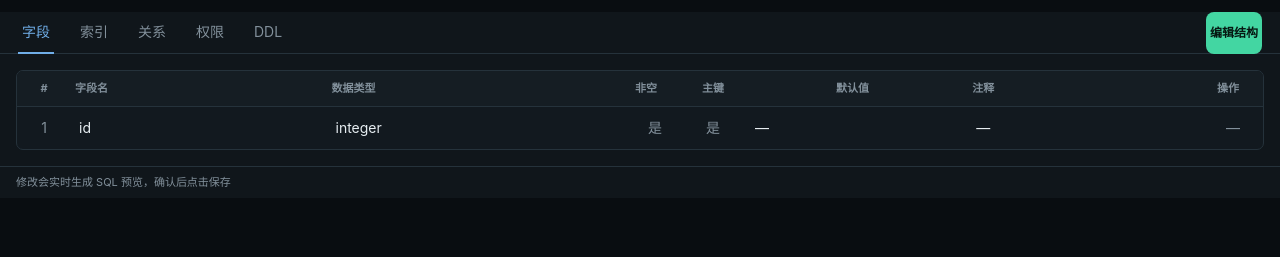
Test: starts read-only and enters edit mode explicitly
Expected: the text "id" is shown, x1=79 y1=119 x2=91 y2=136
Click the button "编辑结构" at (1234, 32), box x1=1206 y1=12 x2=1262 y2=54
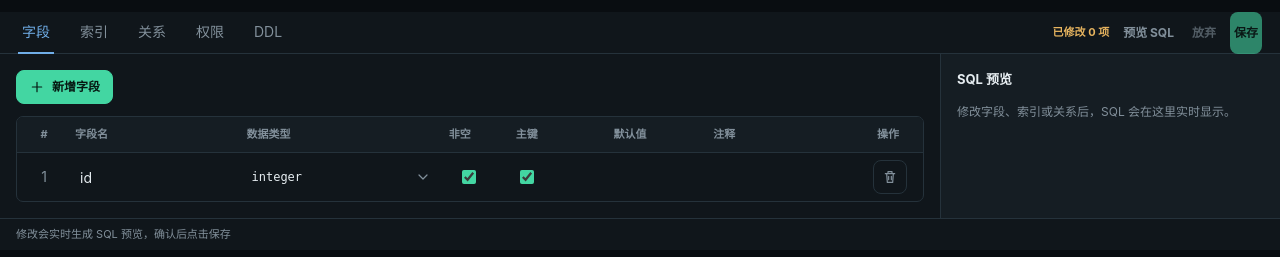
Expected: the field named "字段名 1" is shown, x1=71 y1=161 x2=232 y2=193
